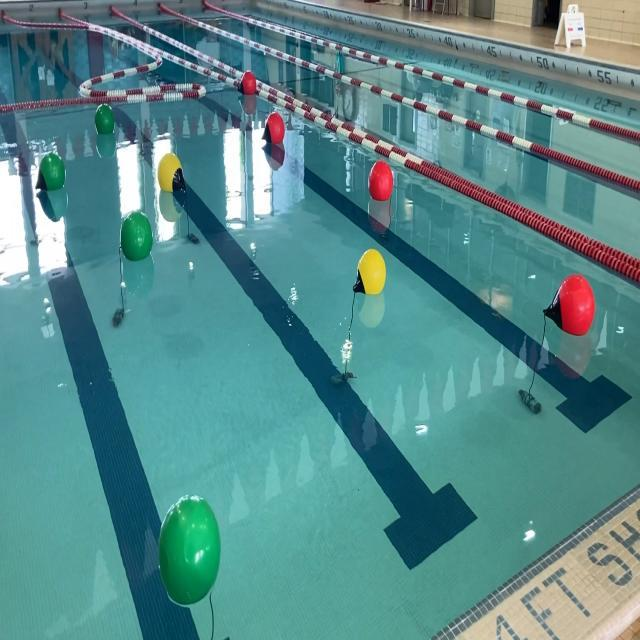buoy: (156, 490, 222, 606), (540, 273, 598, 341), (351, 247, 386, 300), (120, 210, 153, 264), (156, 150, 187, 197), (34, 150, 66, 193), (367, 158, 394, 204), (262, 110, 286, 148), (94, 102, 116, 138), (238, 68, 258, 98)
